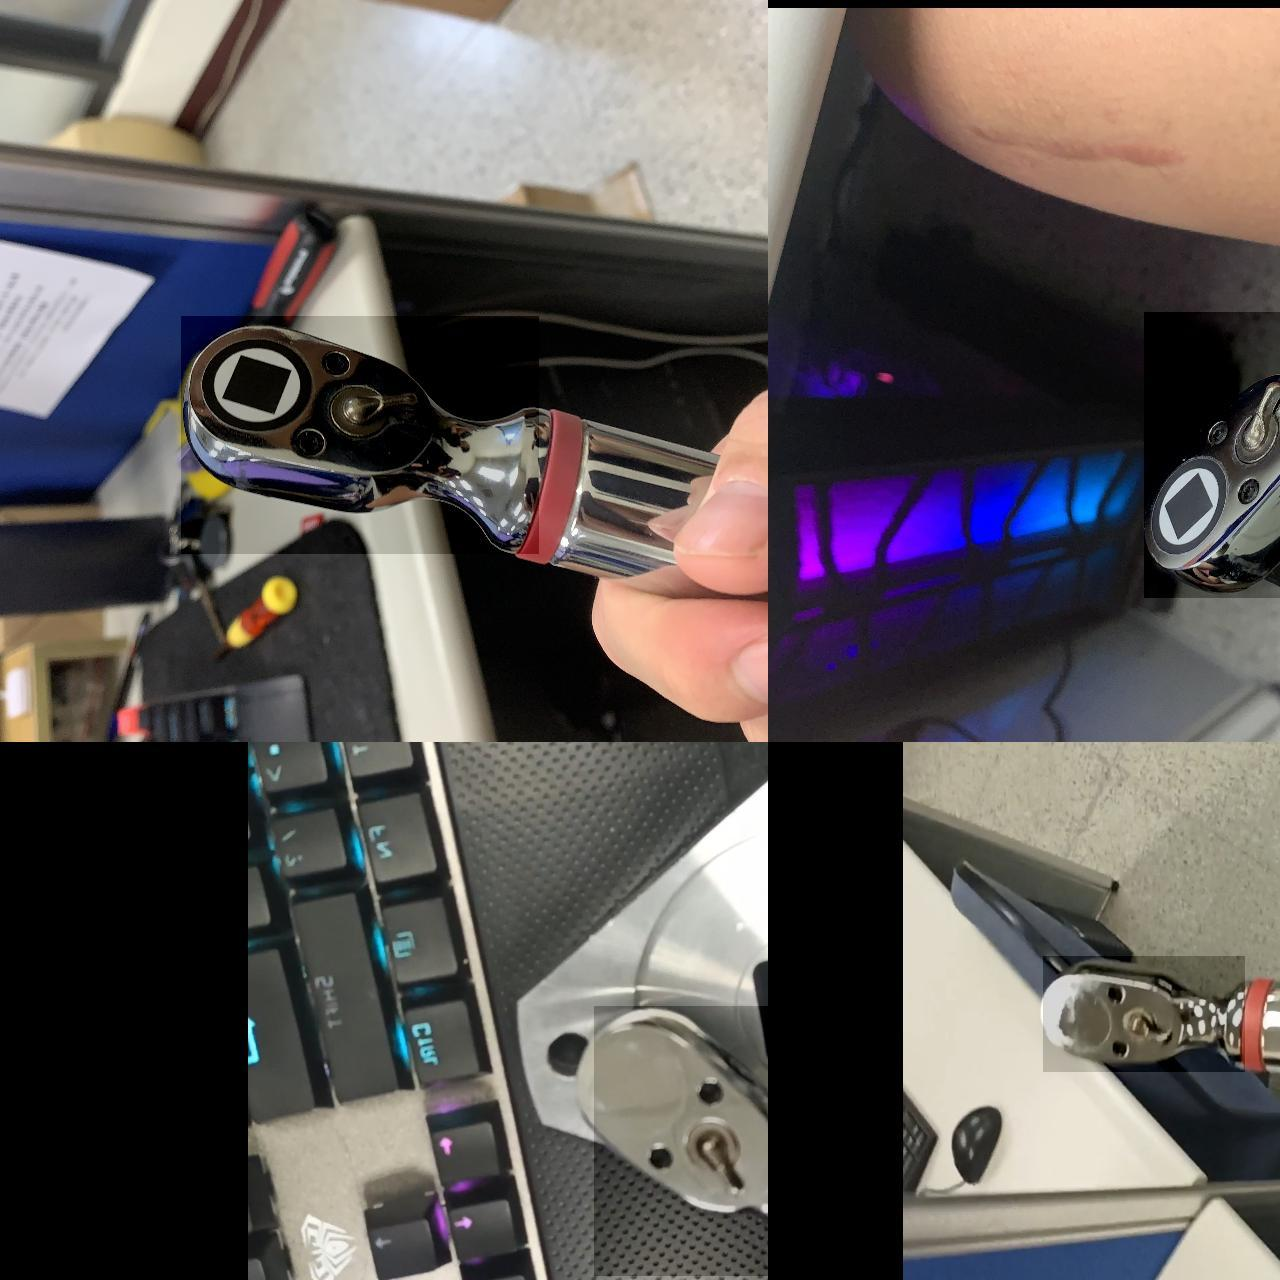Tool: (181, 315, 539, 553), (594, 1005, 768, 1275), (1144, 311, 1280, 597), (1043, 955, 1245, 1071)
hole: (548, 1010, 604, 1094)
